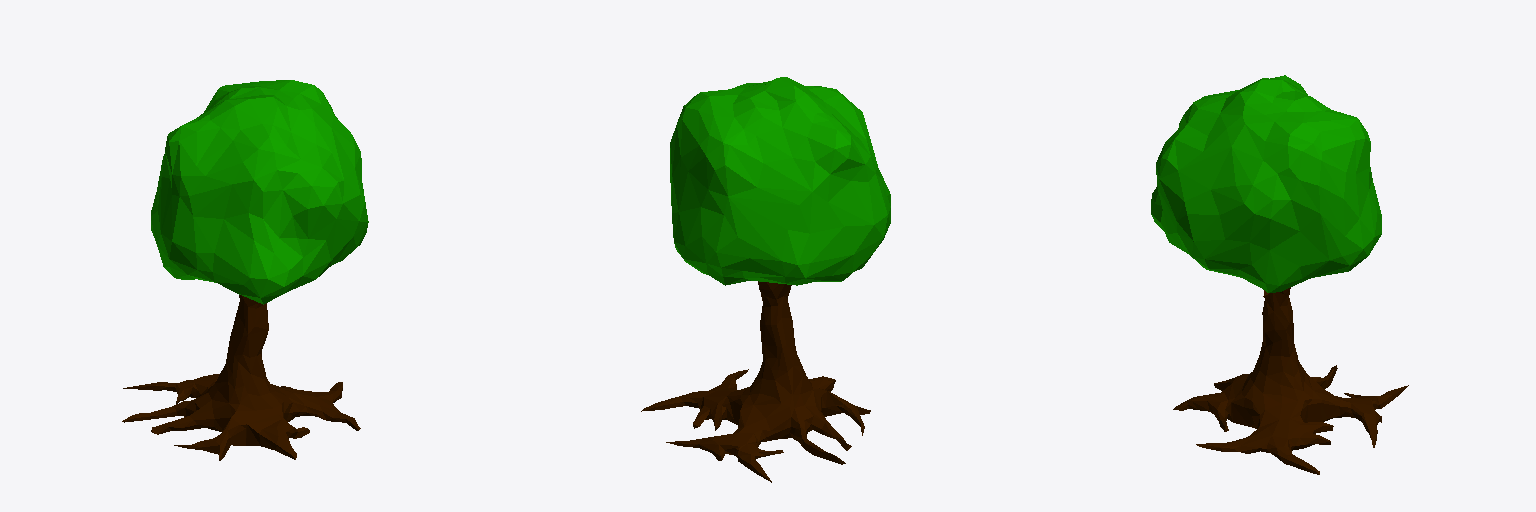
The model's file is treeLight.obj.
The picture shows the model from 3 angles: view 1: azimuth 30°, elevation 25°; view 2: azimuth 150°, elevation 25°; view 3: azimuth 270°, elevation 25°; orthographic projection.
Visible parts, largest first — view 1: Feuillage_Cube, Tronc_Cube.001; view 2: Feuillage_Cube, Tronc_Cube.001; view 3: Feuillage_Cube, Tronc_Cube.001.
Part boxes in pixels (x1,y1,x2,y2): Feuillage_Cube: (151,80,368,304); Tronc_Cube.001: (122,295,360,460); Feuillage_Cube: (670,77,890,285); Tronc_Cube.001: (641,281,870,482); Feuillage_Cube: (1151,75,1381,292); Tronc_Cube.001: (1173,287,1408,474).
Bounding box in the file's own units: 8.61 × 12.9 × 9.02.